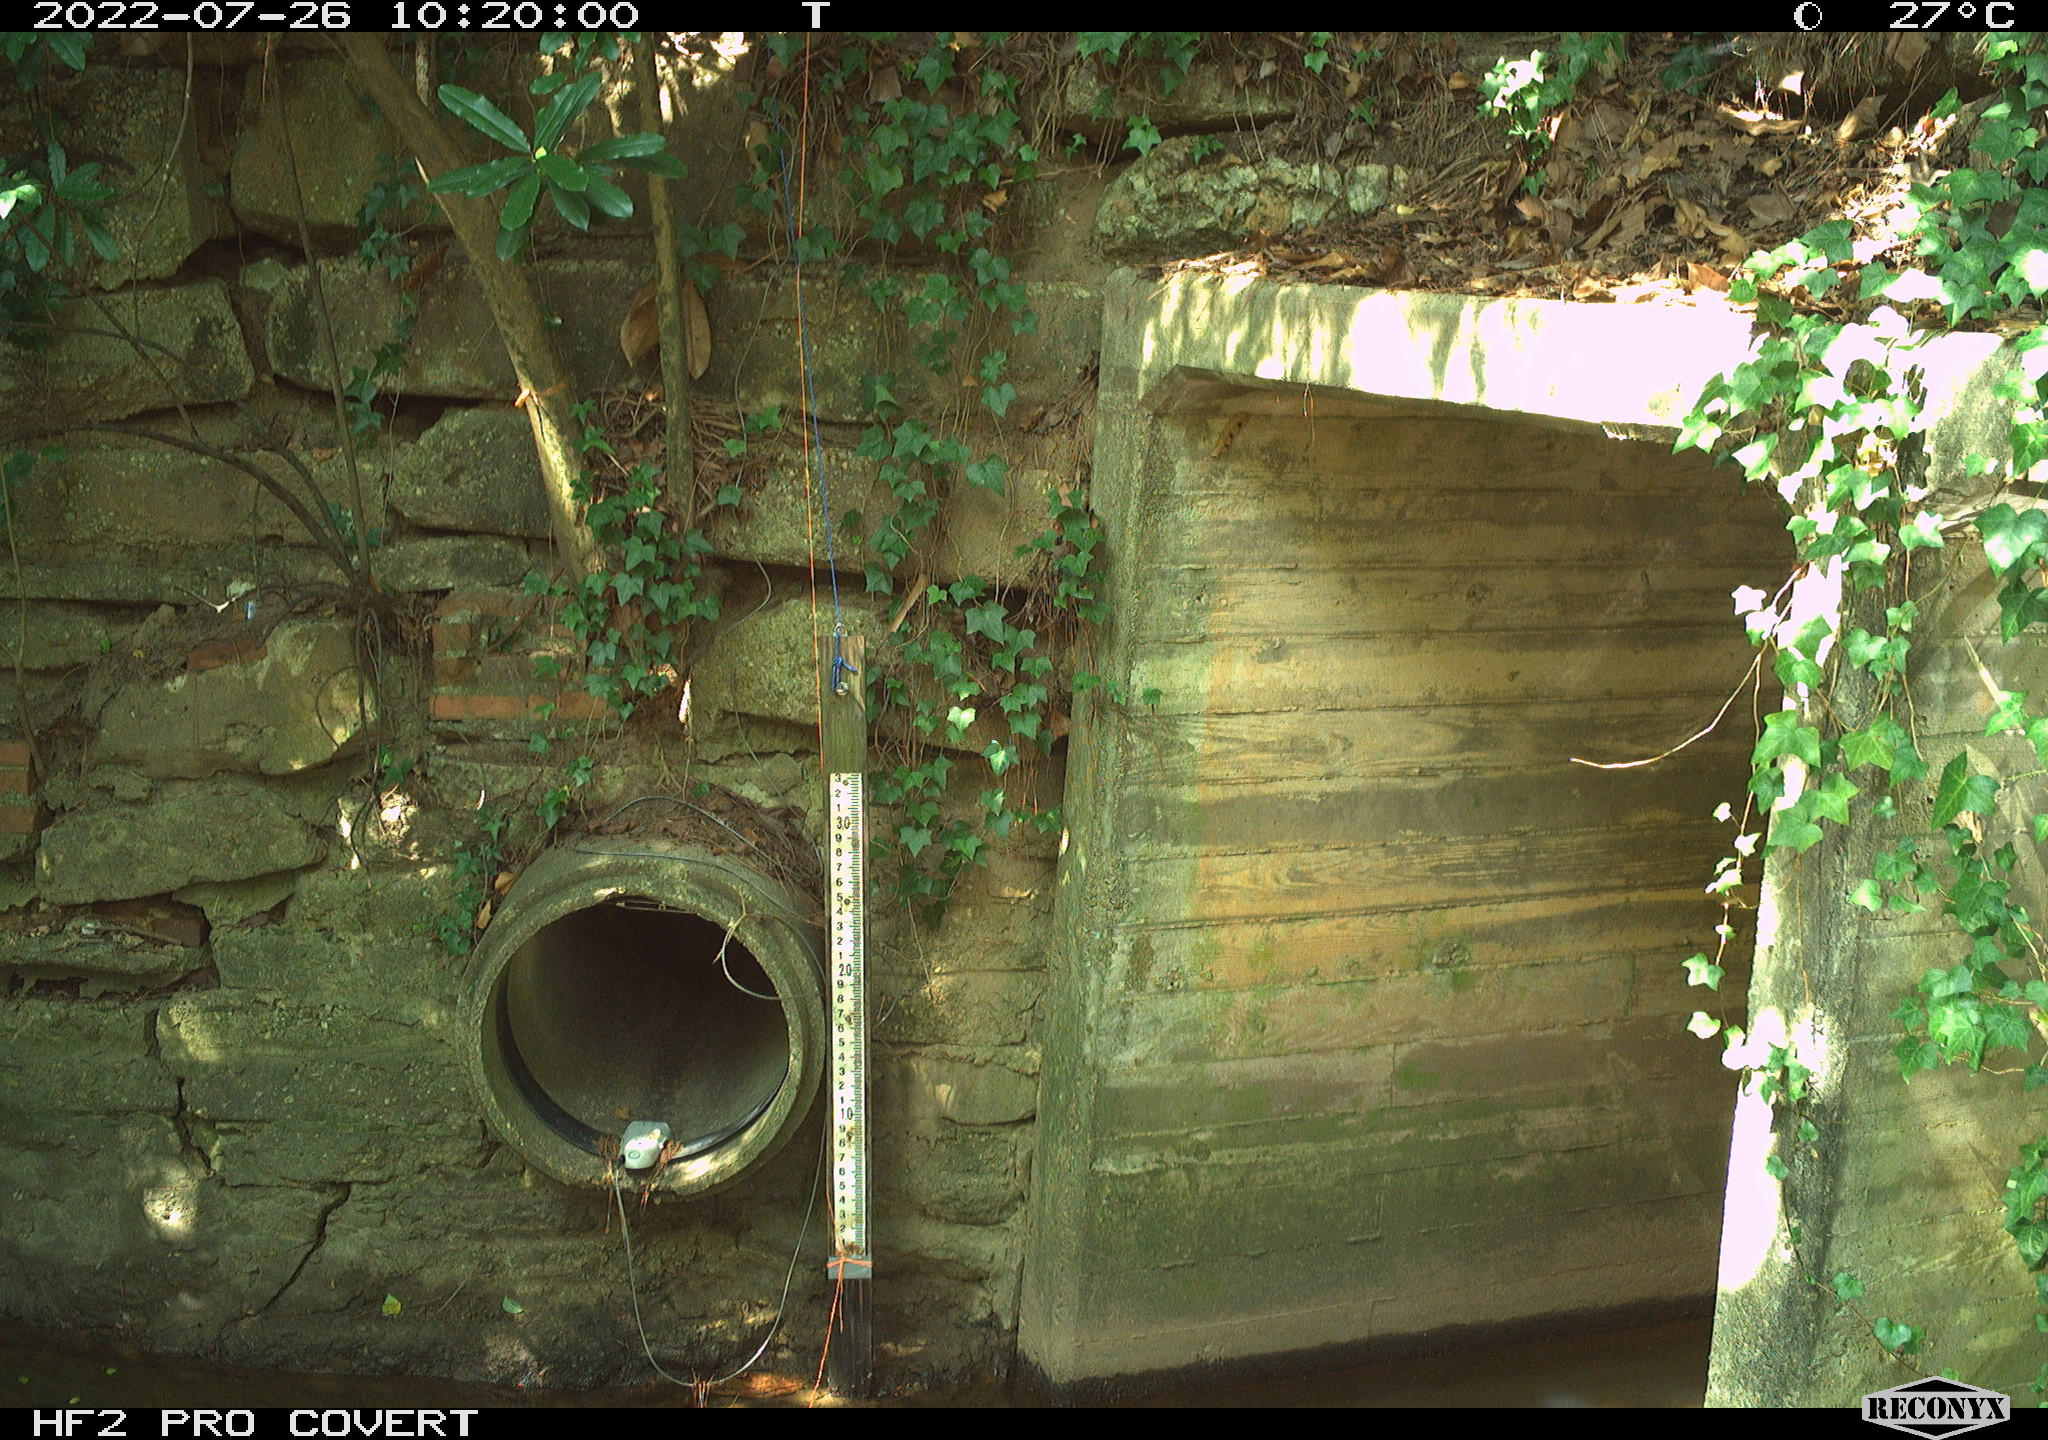Empty Outlet: (482, 905, 792, 1188)
